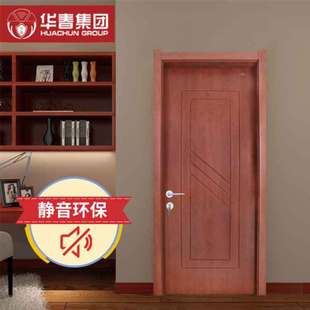door: (160, 51, 265, 298)
